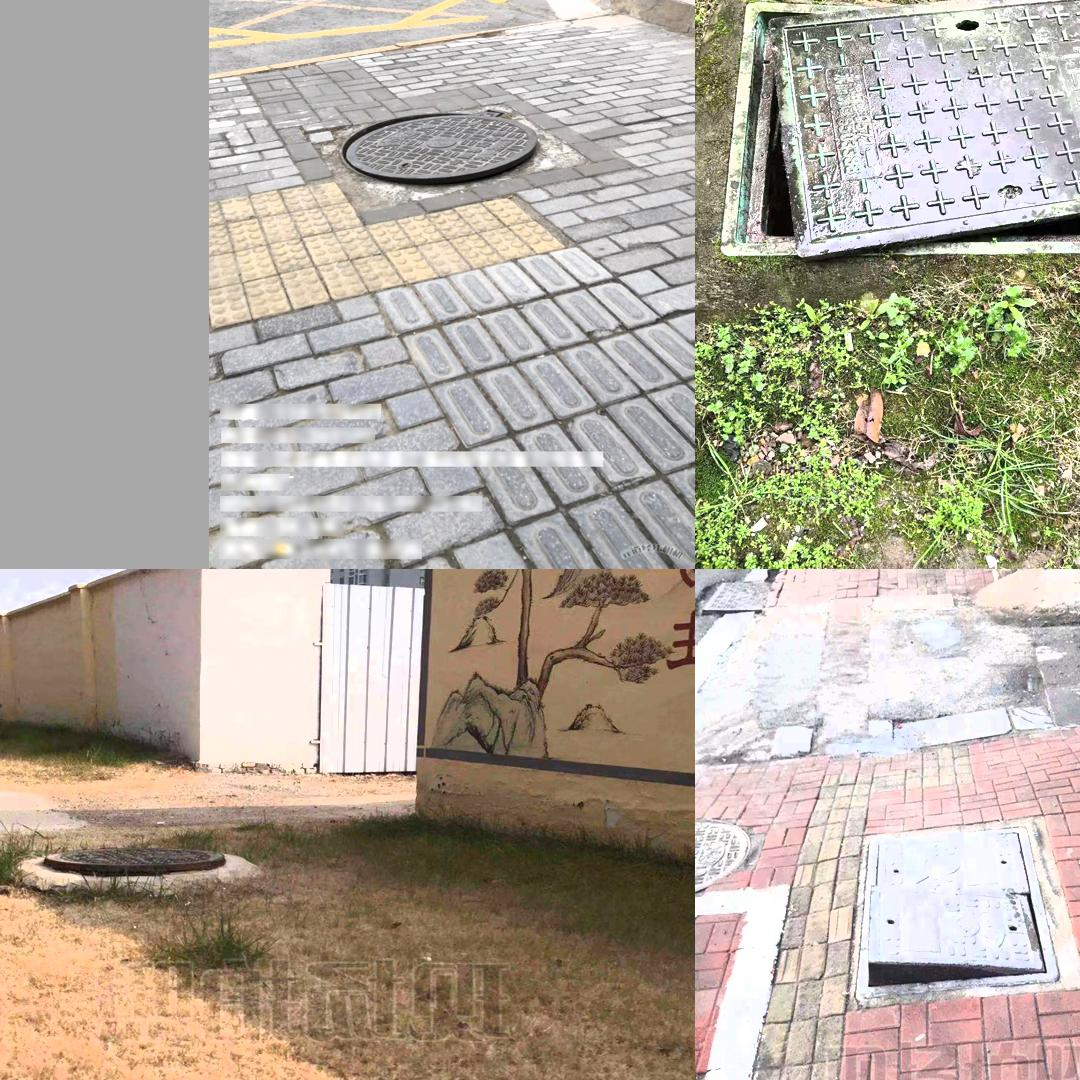uncovered: (716, 0, 1080, 256), (854, 826, 1058, 1004), (323, 101, 546, 202), (18, 846, 237, 885)
